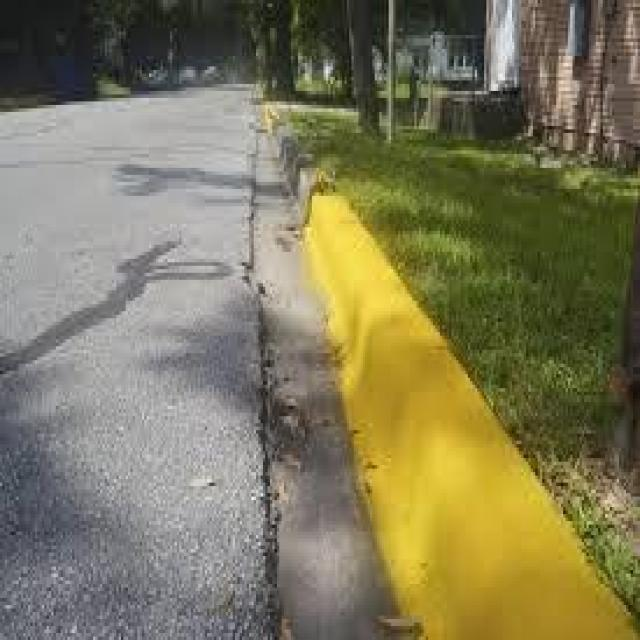curb: (320, 446, 638, 636), (272, 213, 510, 436), (252, 104, 331, 274)
